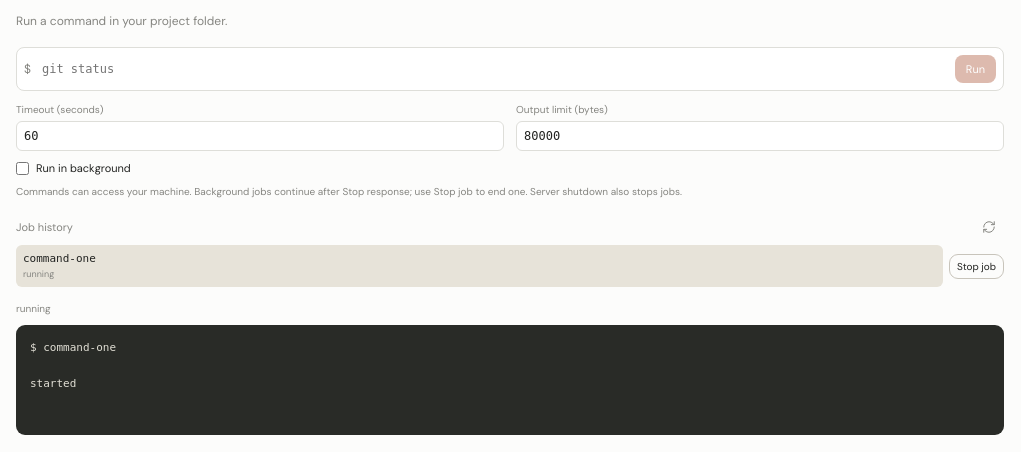
Test: stops a running job and ignores a pre-cancellation poll that returns late
Click the button with aria-label "Stop job command-one".
click(976, 266)  # box x1=949 y1=254 x2=1004 y2=279
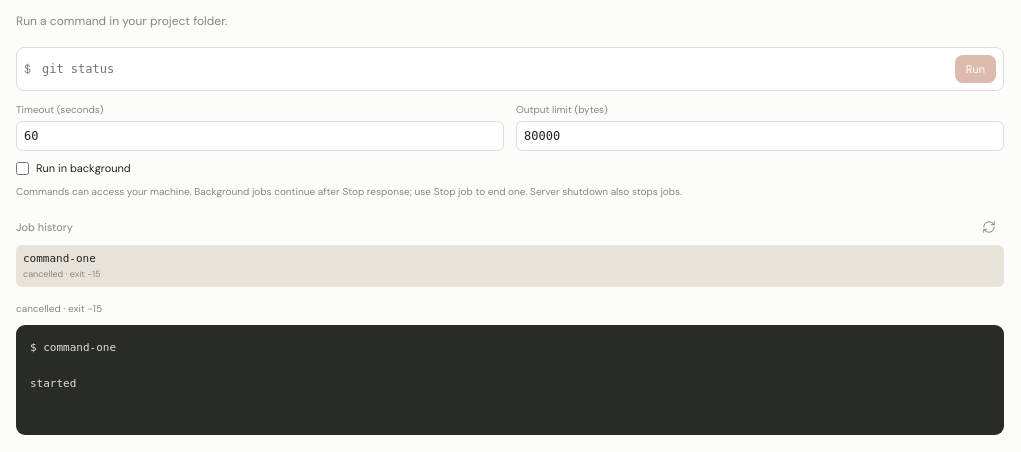
Expected: the message reads "cancelled · exit -15", x1=16 y1=302 x2=102 y2=315
